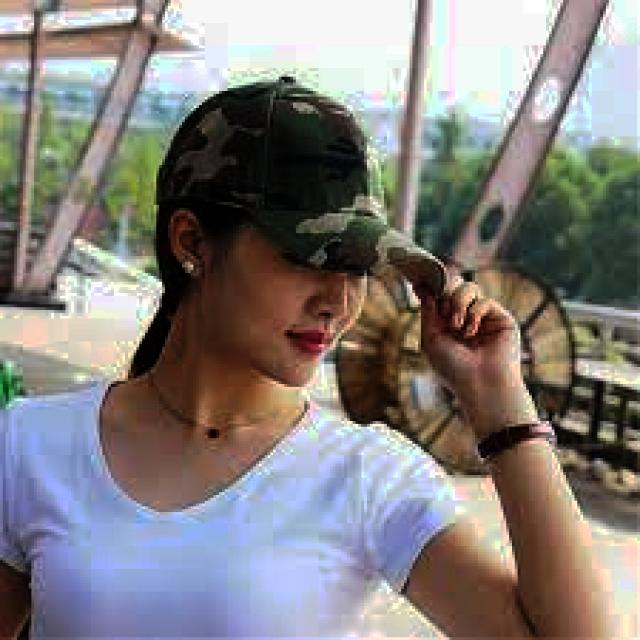TOPI: (148, 65, 474, 316)
